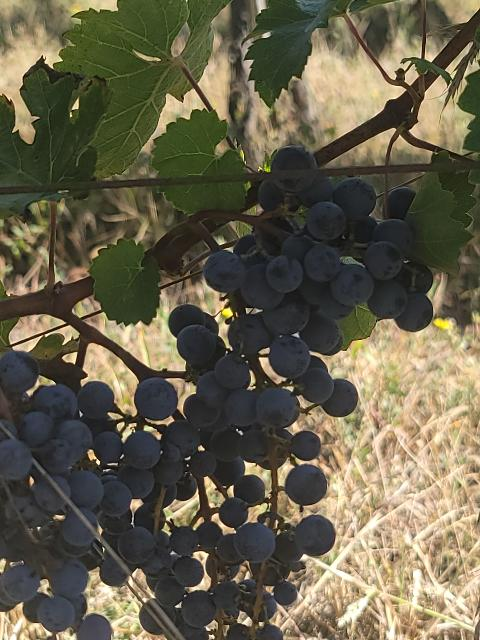grapes: (0, 305, 335, 640), (204, 179, 432, 416)
